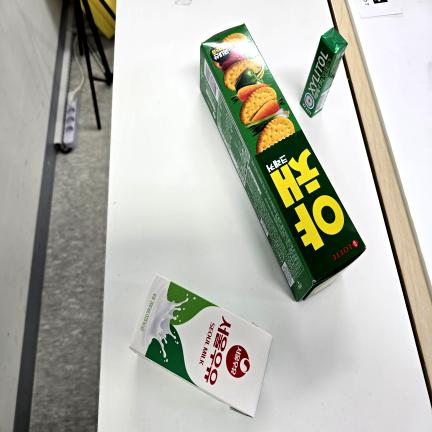cracker_vege: (199, 22, 367, 302)
gum_green: (300, 26, 348, 118)
milk_green: (128, 272, 274, 418)
